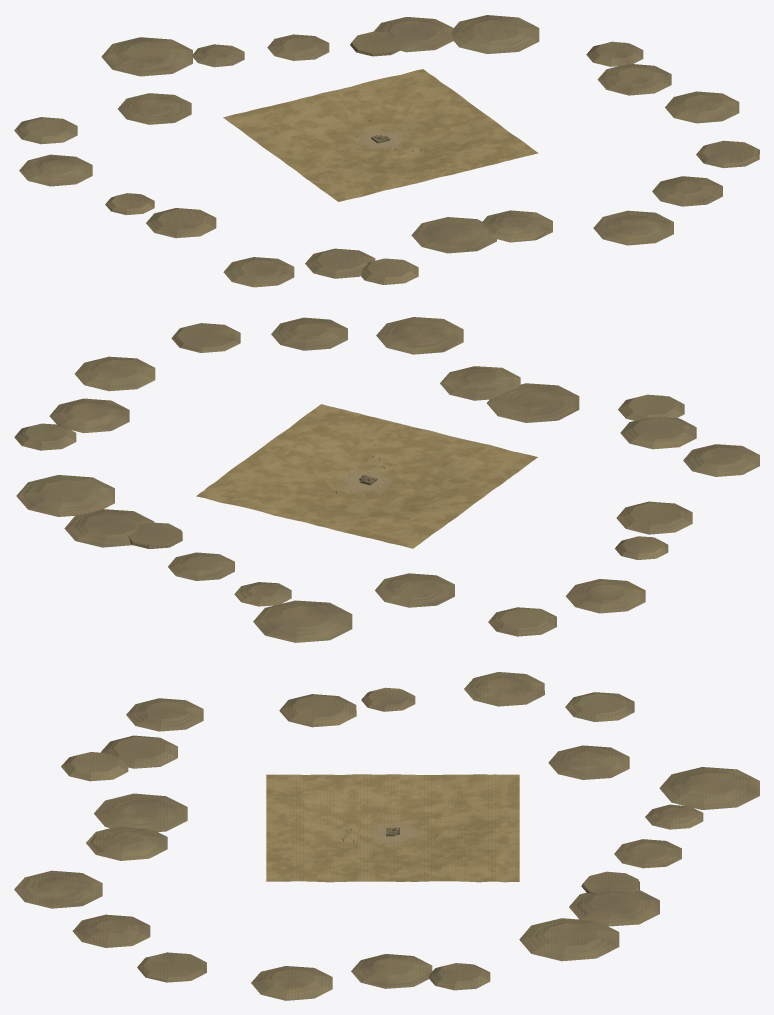
Rendered from catalhoyuk-dogu-hoyugu-baked.glb.
The picture shows the model from 3 angles, top to bottom: view 1: azimuth 30°, elevation 25°; view 2: azimuth 150°, elevation 25°; view 3: azimuth 270°, elevation 25°; orthographic projection. The views are drawn at different scales.
Parts seen in each view (by area): view 1: catalhoyuk-dogu-hoyugu-ground, catalhoyuk-dogu-hoyugu-terrain, catalhoyuk-dogu-hoyugu-near; view 2: catalhoyuk-dogu-hoyugu-ground, catalhoyuk-dogu-hoyugu-terrain, catalhoyuk-dogu-hoyugu-near; view 3: catalhoyuk-dogu-hoyugu-ground, catalhoyuk-dogu-hoyugu-terrain, catalhoyuk-dogu-hoyugu-near.
Part boxes in pixels (x1=…): catalhoyuk-dogu-hoyugu-ground: x1=14, y1=15, x2=759, y2=287; catalhoyuk-dogu-hoyugu-terrain: x1=223, y1=69, x2=538, y2=201; catalhoyuk-dogu-hoyugu-near: x1=25, y1=20, x2=753, y2=276; catalhoyuk-dogu-hoyugu-ground: x1=14, y1=317, x2=759, y2=642; catalhoyuk-dogu-hoyugu-terrain: x1=196, y1=404, x2=537, y2=548; catalhoyuk-dogu-hoyugu-near: x1=24, y1=323, x2=742, y2=628; catalhoyuk-dogu-hoyugu-ground: x1=14, y1=672, x2=759, y2=1000; catalhoyuk-dogu-hoyugu-terrain: x1=266, y1=774, x2=519, y2=882; catalhoyuk-dogu-hoyugu-near: x1=45, y1=677, x2=735, y2=987.
Size of the model in its own units: 1155 by 12.74 by 1108.
22 materials, 16 textured.
